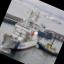fishing boat: (0, 0, 51, 61), (34, 30, 64, 58)
